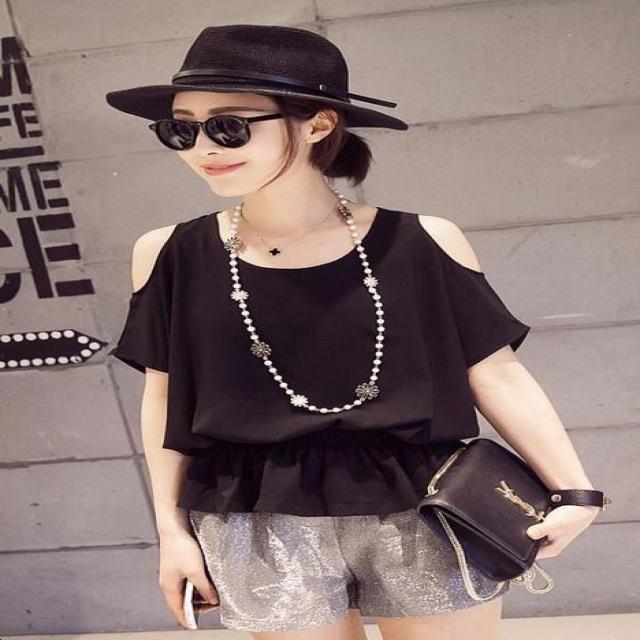short sleeve top: (108, 213, 525, 516)
shorts: (200, 435, 513, 626)
